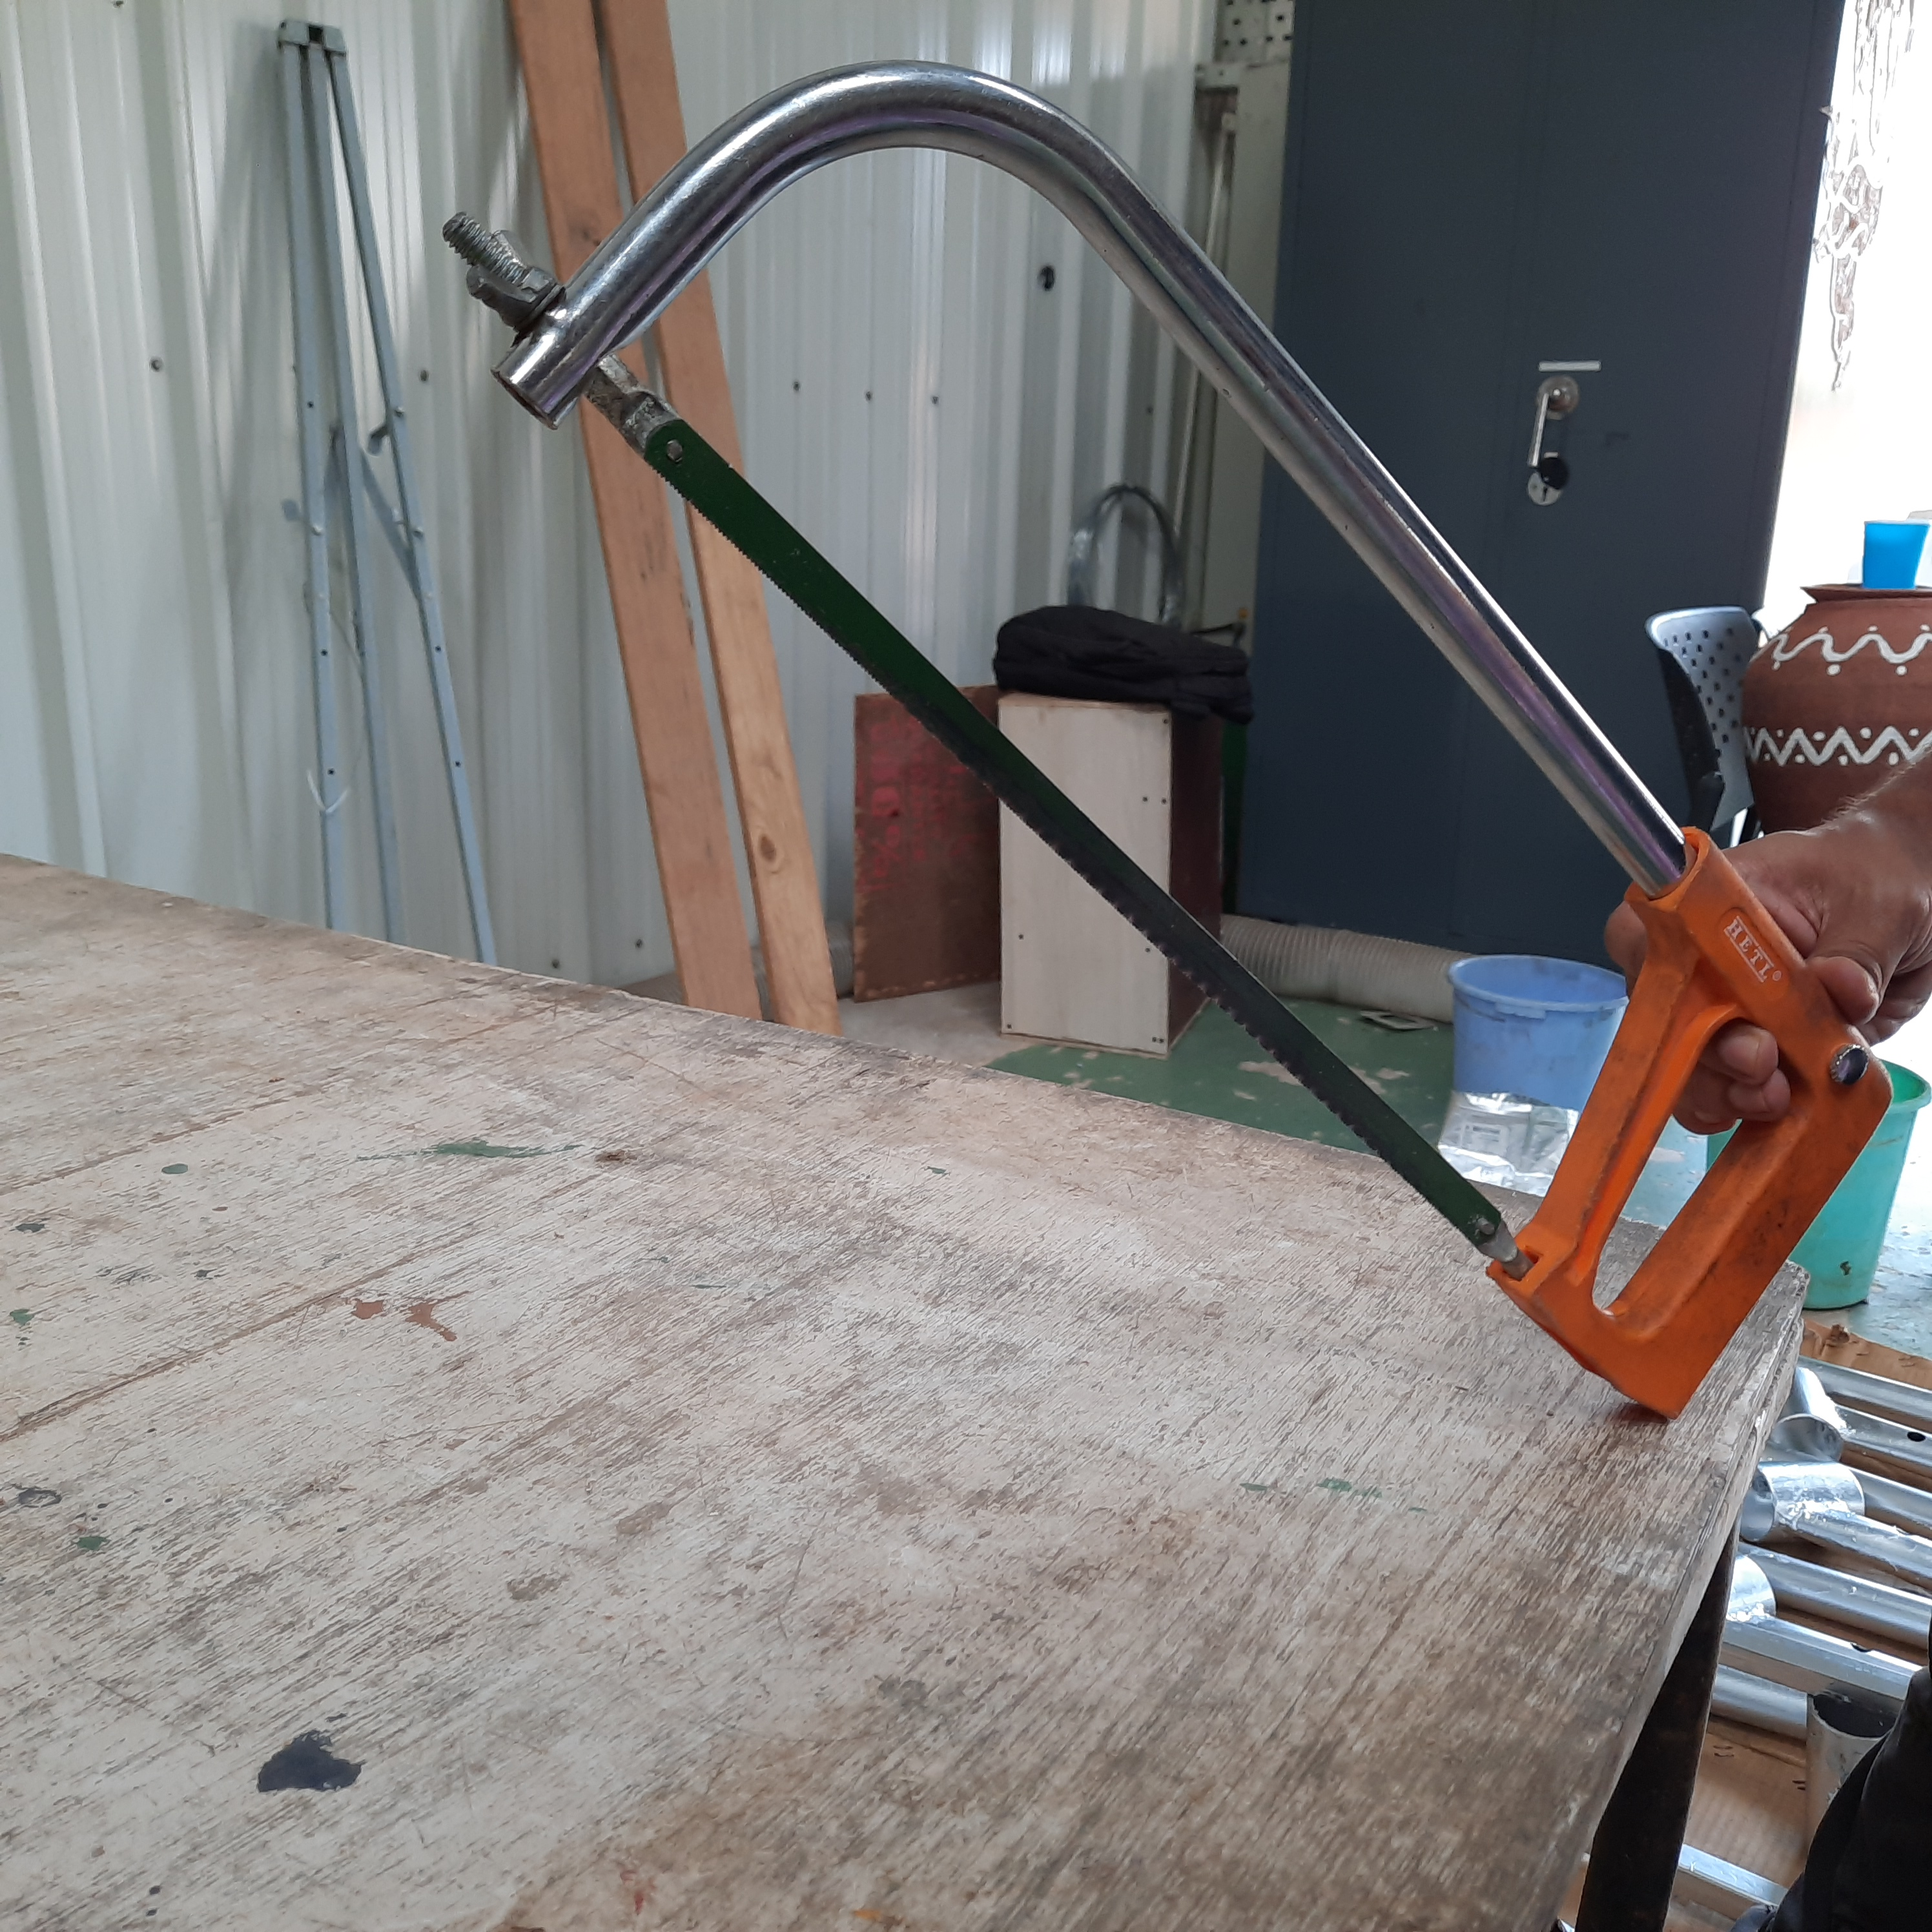Hexaframe: (400, 41, 1905, 1472)
